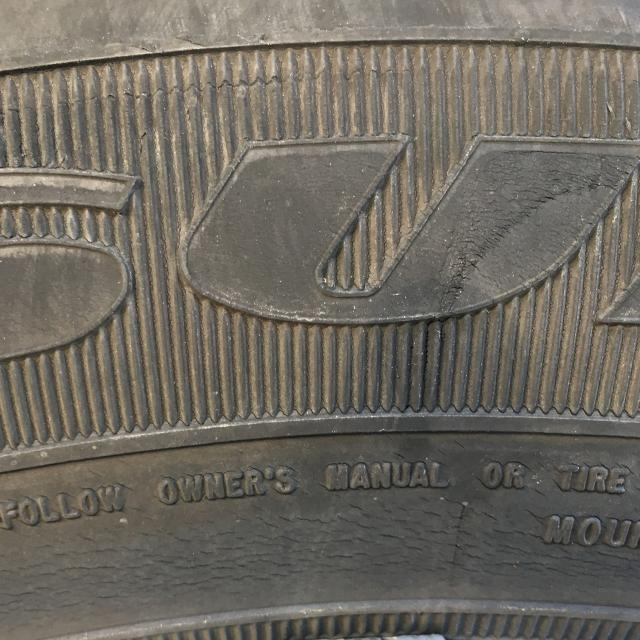Cracks: (1, 481, 640, 638), (432, 132, 640, 337), (0, 46, 428, 118), (130, 126, 155, 155)
